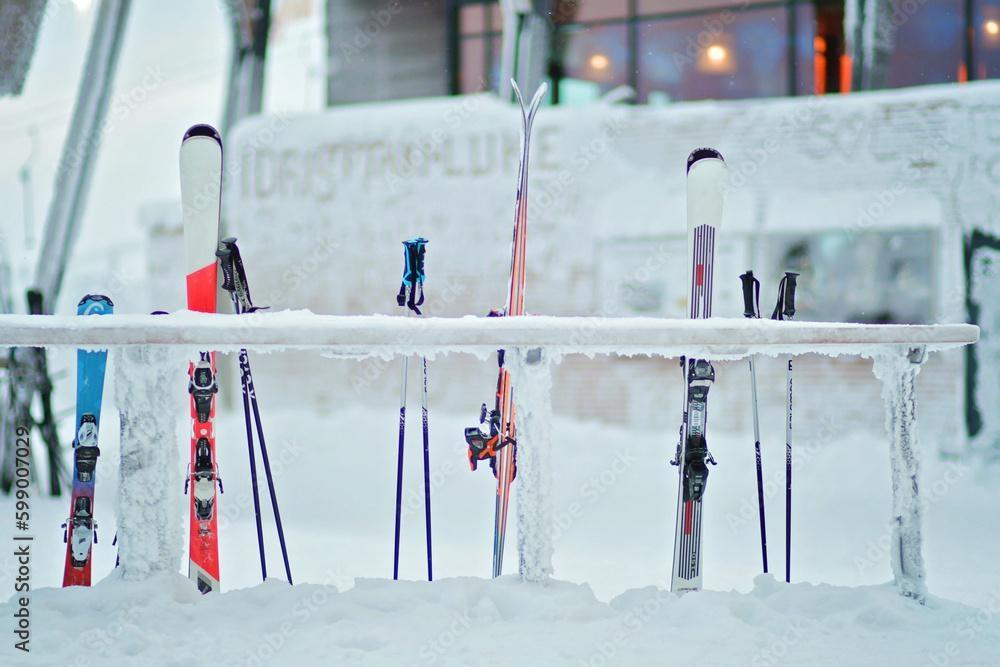Skis: (370, 76, 574, 574)
